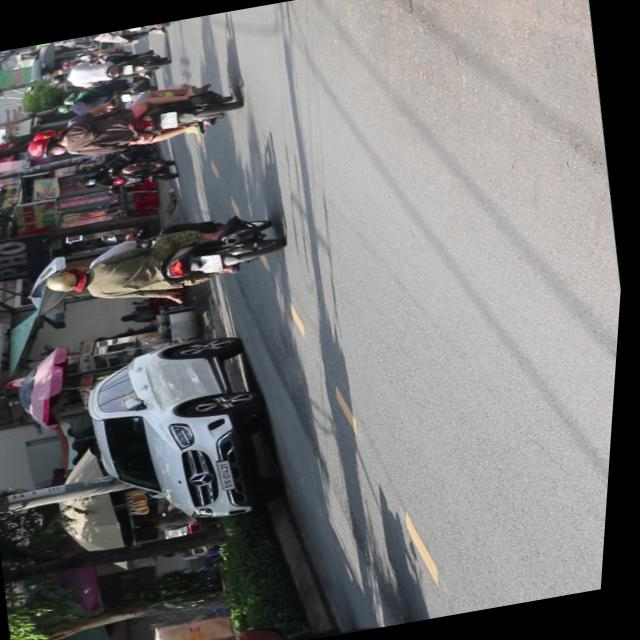helmet: (45, 266, 93, 298), (25, 135, 67, 161), (28, 128, 66, 148)
licenseplate: (38, 206, 292, 314), (18, 74, 246, 170)
nohelmet: (202, 253, 226, 274), (158, 111, 179, 130)
